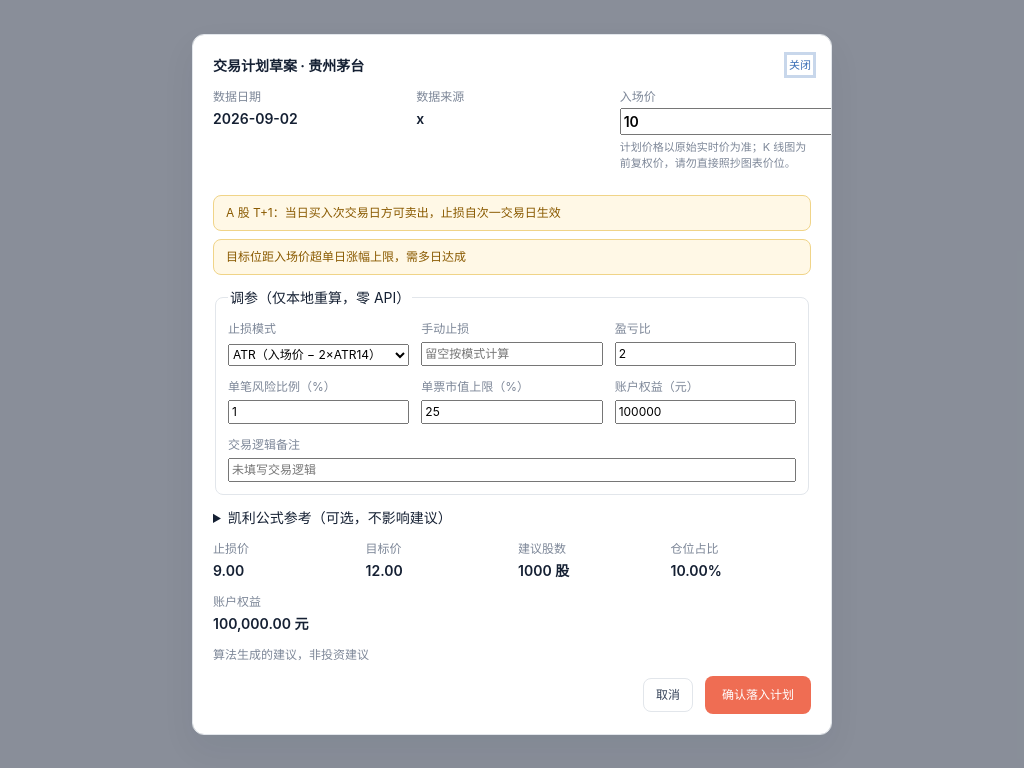
Test: PlanDraftDialog › 调参重算零 API：改盈亏比仅本地重算 target
Replace the text in the number field with test id "rr-input" with "3" at (705,354), box [615,342,796,366]
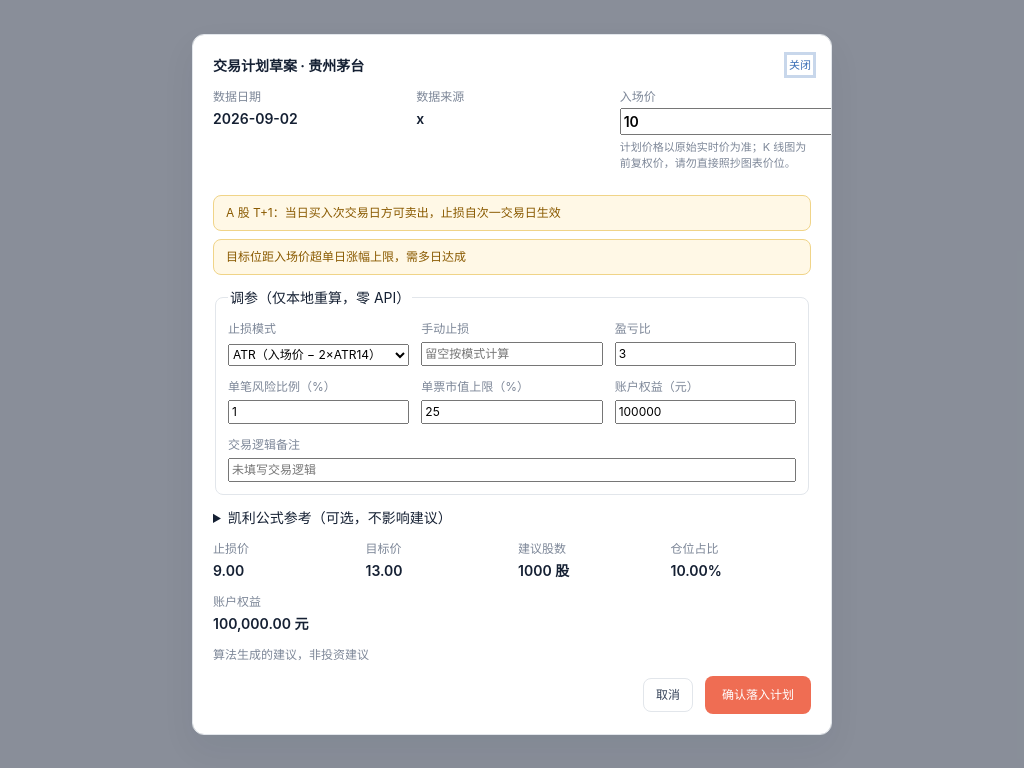
Result: the element with test id "target" shows "13.00" at [366,562,403,578]
